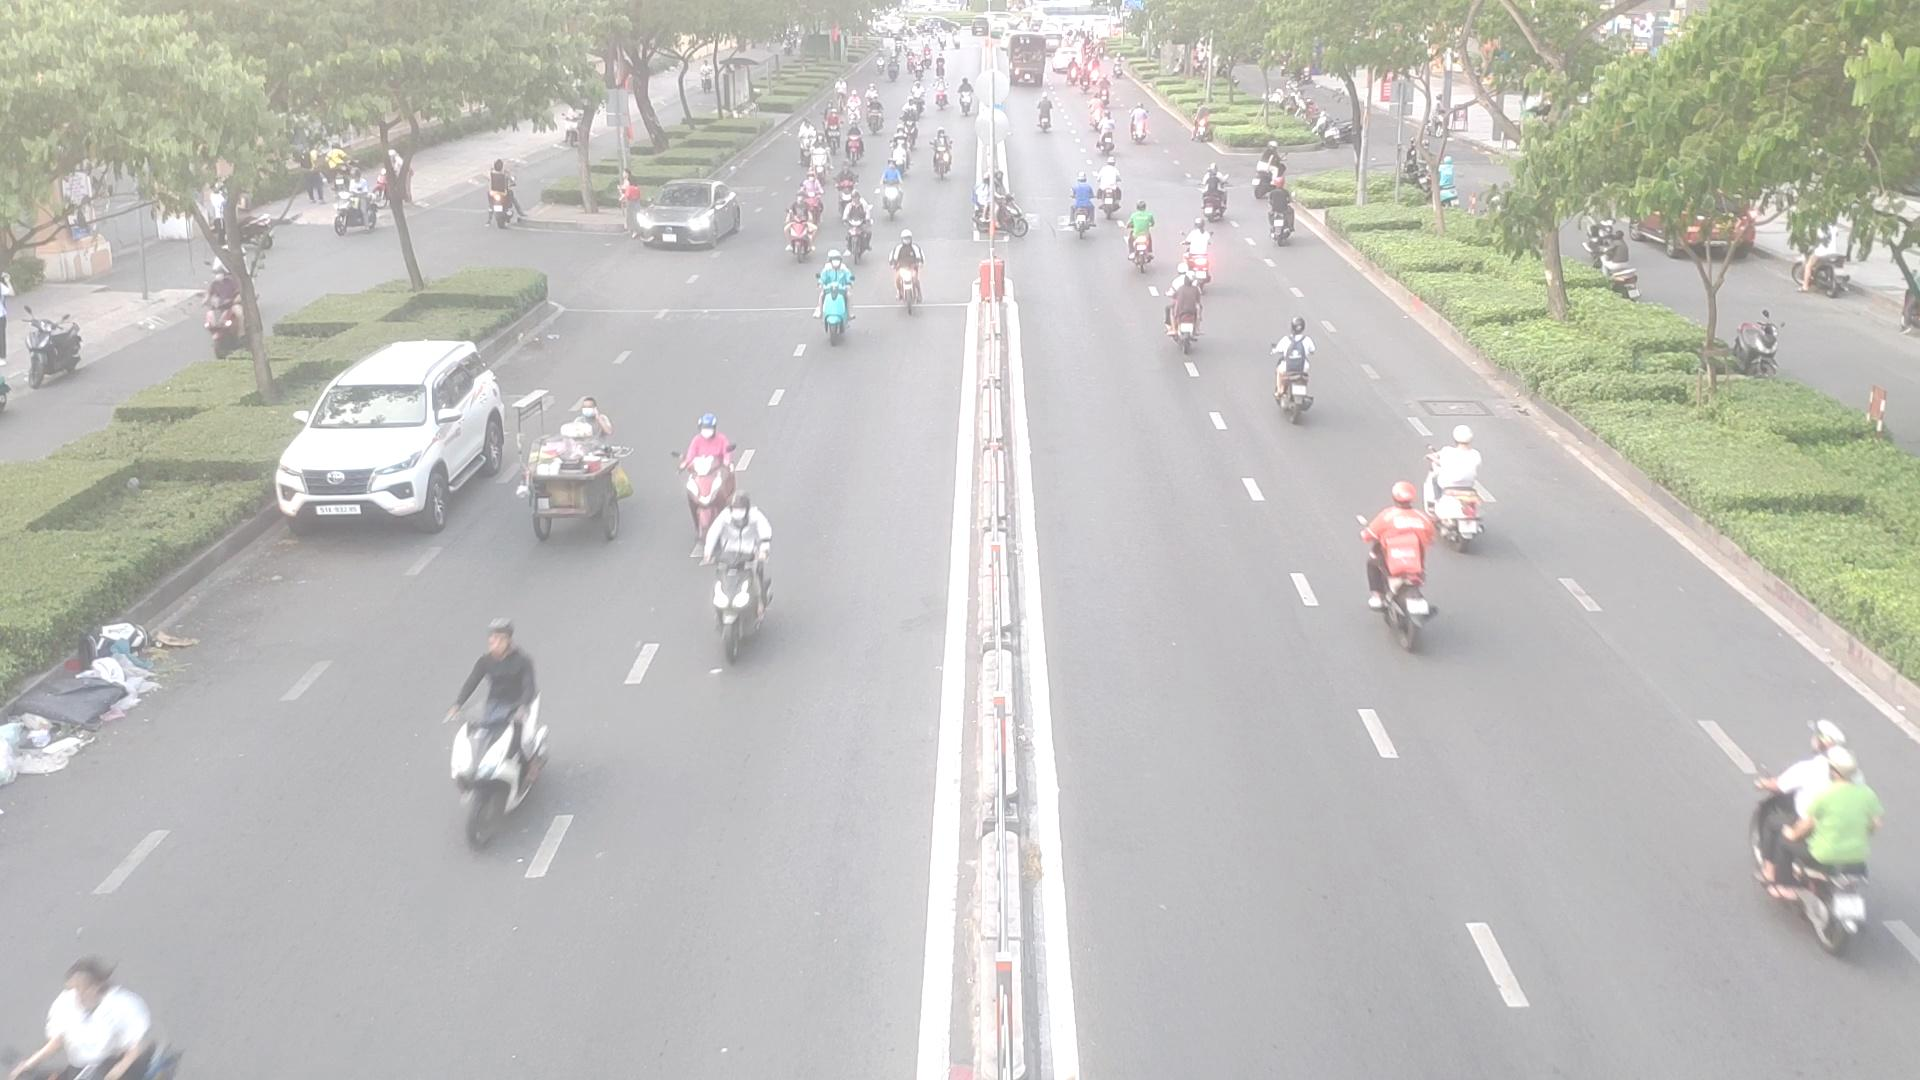car: (272, 344, 535, 531), (626, 185, 754, 251)
motorbike: (434, 655, 545, 855), (18, 963, 175, 1080), (1352, 497, 1443, 647), (699, 506, 778, 676), (674, 418, 756, 555), (1418, 440, 1501, 550), (1266, 328, 1325, 425), (807, 268, 861, 345), (1158, 280, 1207, 357), (884, 248, 928, 320), (1176, 228, 1218, 291), (1126, 211, 1164, 276), (1062, 185, 1102, 244), (783, 204, 822, 265), (840, 204, 876, 258), (1193, 175, 1232, 223), (1267, 204, 1299, 251), (872, 171, 903, 216), (1130, 112, 1156, 145), (1034, 103, 1059, 136)
